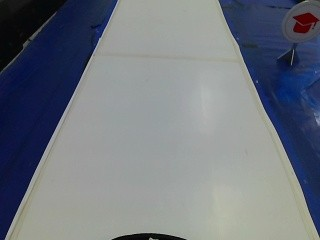school: (283, 0, 318, 39)
